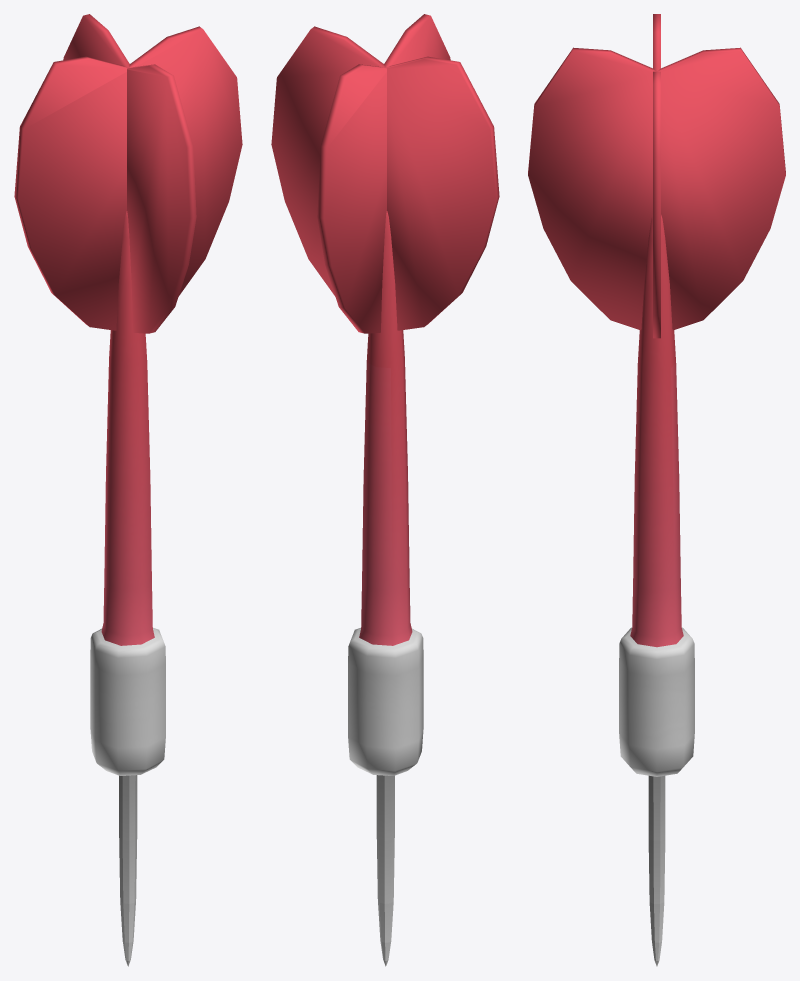
Rendered from SM_dart_red.fbx.
3 views of the same model, side by side, from view 1: azimuth 30°, elevation 25°; view 2: azimuth 150°, elevation 25°; view 3: azimuth 270°, elevation 25° (orthographic).
Parts seen in each view (by area): view 1: Cube.008; view 2: Cube.008; view 3: Cube.008.
Boxes of the visible parts, <box> form: Cube.008: <box>14,14,242,966</box>; Cube.008: <box>271,14,499,966</box>; Cube.008: <box>528,14,785,966</box>.
Size of the model in its own units: 388 by 1521 by 388.
